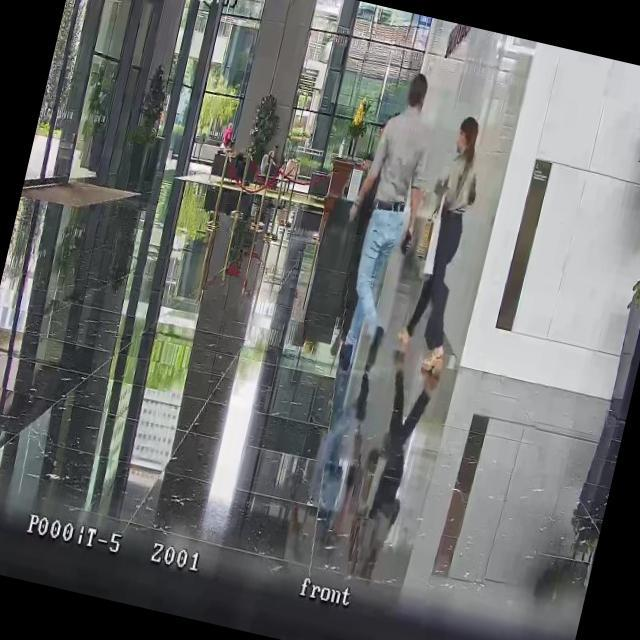person: (314, 65, 449, 382), (343, 334, 448, 586), (393, 111, 498, 359), (220, 119, 237, 150)
